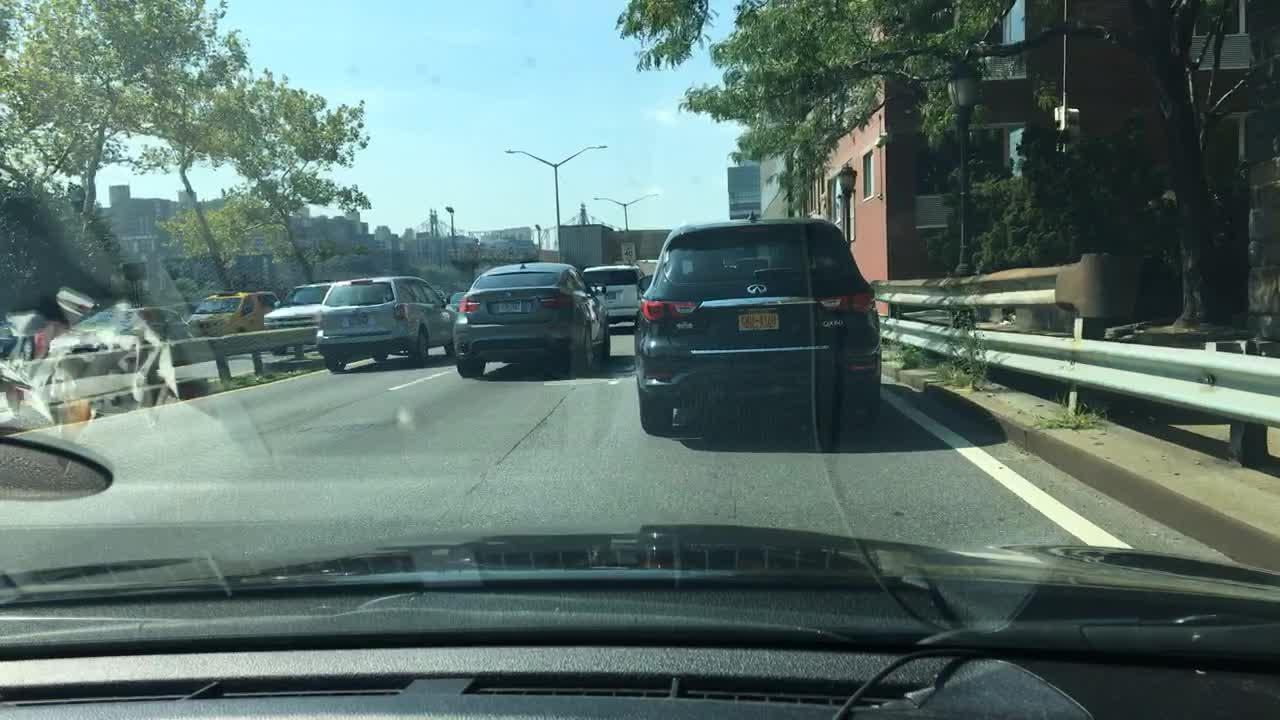Infiniti: (742, 278, 772, 301)
